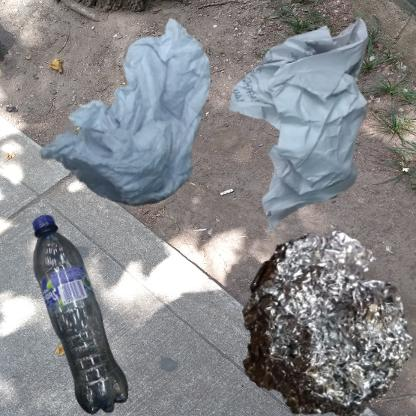aluminio: (213, 213, 416, 416)
botella: (10, 213, 155, 416)
papel: (10, 10, 269, 253), (213, 10, 416, 249)
